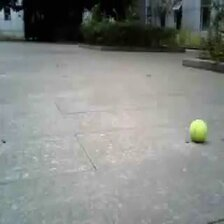tennis: (189, 120, 207, 142)
